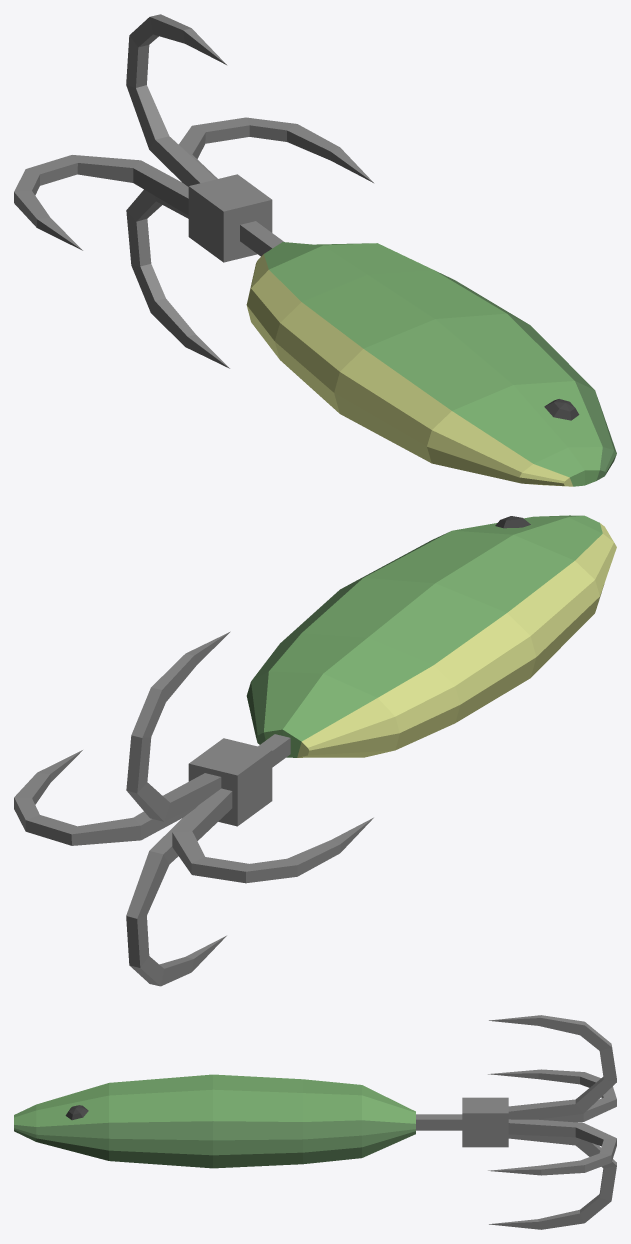
Rendered from lure01.fbx.
3 renders of one model, top to bottom at view 1: azimuth 30°, elevation 25°; view 2: azimuth 150°, elevation 25°; view 3: azimuth 270°, elevation 25°, orthographic. The views are drawn at different scales.
Parts seen in each view (by area): view 1: lure01; view 2: lure01; view 3: lure01.
Boxes of the visible parts, x1,y1,x2,y2 form: lure01: (14, 14, 616, 486); lure01: (14, 515, 616, 986); lure01: (14, 1015, 616, 1229).
Bounding box in the file's own units: 19.53 × 50.53 × 19.53.
